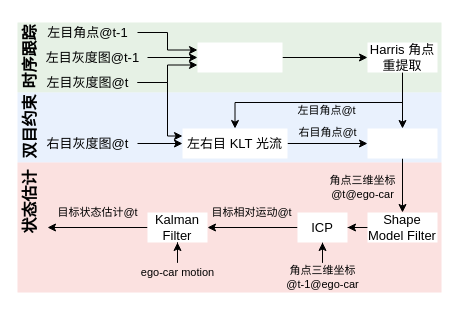
This 458x309 diagram has some shape labels left out. Here are the shapes that lost their labels. From the top down, the box of each, then its label:
(197, 42, 282, 72): 时序 KLT 光流
(367, 128, 437, 158): 对极约束
